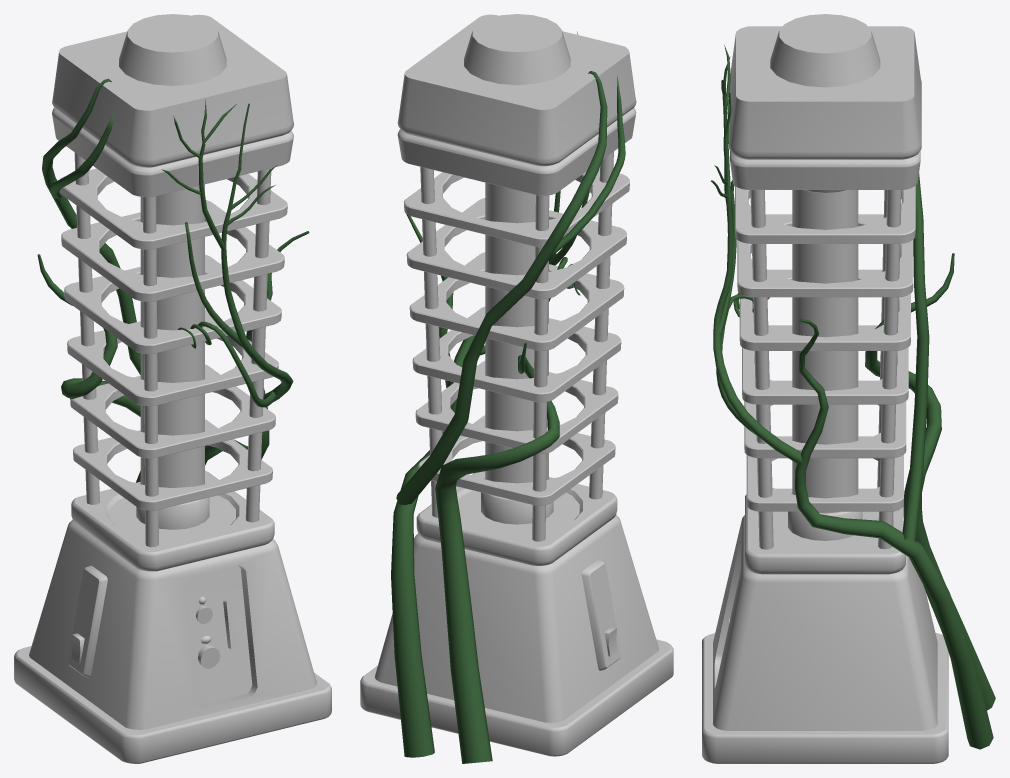
Rendered from Sci-fi_lamp_R.fbx.
The picture shows the model from 3 angles, left to right: view 1: azimuth 30°, elevation 25°; view 2: azimuth 150°, elevation 25°; view 3: azimuth 270°, elevation 25°; orthographic projection. The views are drawn at different scales.
Visible parts, largest first — view 1: lamp1; view 2: lamp1; view 3: lamp1.
Part boxes in pixels (bbox=[...]): lamp1: bbox=[14, 14, 331, 763]; lamp1: bbox=[360, 14, 673, 763]; lamp1: bbox=[702, 14, 995, 763].
Bounding box in the file's own units: 19.84 × 56.5 × 21.57.
